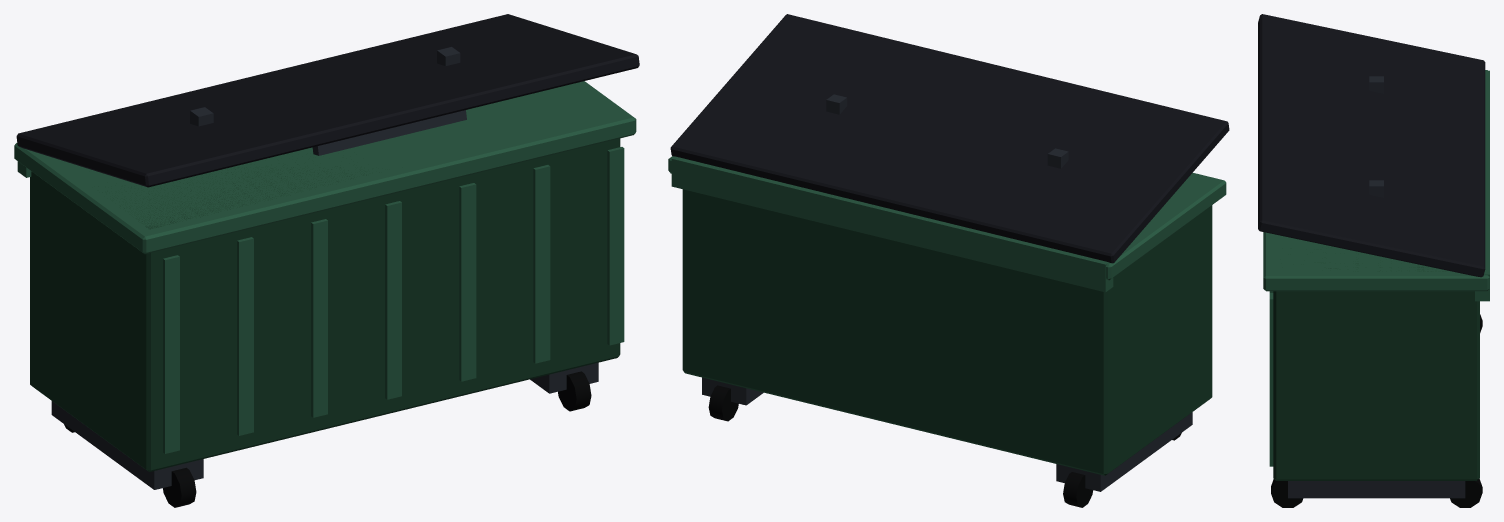
The model's file is dumpster.glb.
The picture shows the model from 3 angles, left to right: view 1: azimuth 30°, elevation 25°; view 2: azimuth 150°, elevation 25°; view 3: azimuth 270°, elevation 25°; orthographic projection. The views are drawn at different scales.
Visible parts, largest first — view 1: dumpster, lid; view 2: dumpster, lid; view 3: dumpster, lid.
Part boxes in pixels (x1=…): dumpster: x1=14, y1=81, x2=636, y2=507; lid: x1=16, y1=14, x2=639, y2=187; dumpster: x1=668, y1=156, x2=1226, y2=507; lid: x1=670, y1=14, x2=1229, y2=263; dumpster: x1=1263, y1=70, x2=1489, y2=507; lid: x1=1258, y1=14, x2=1485, y2=277.
Bounding box in the file's own units: 2 × 1.36 × 0.9418.
